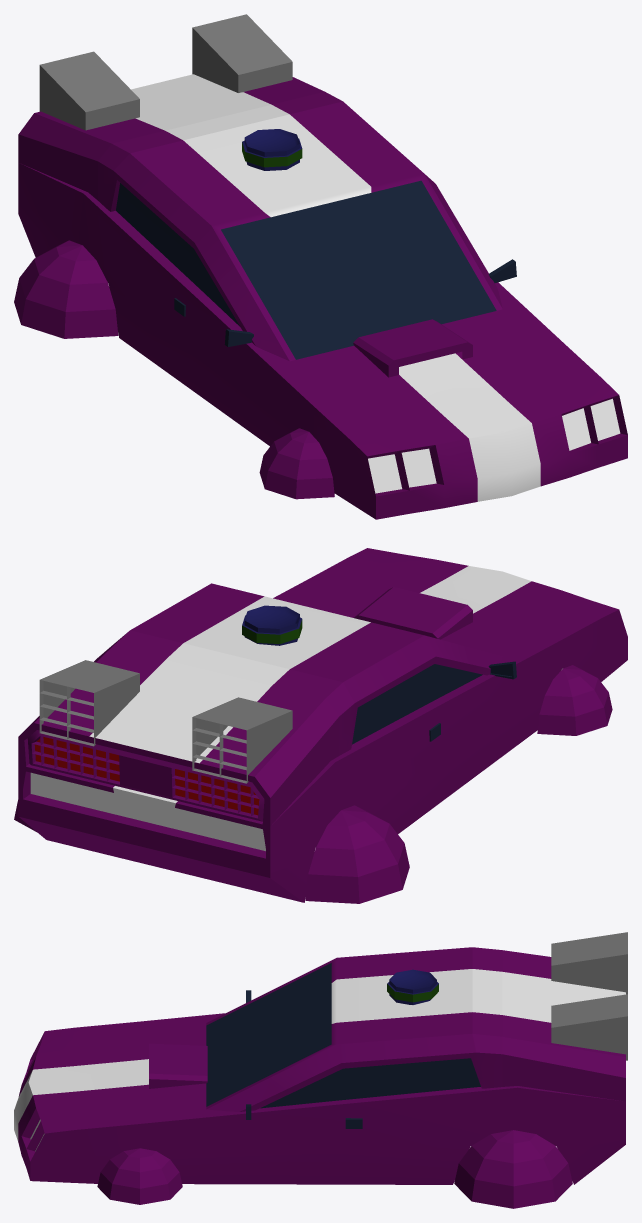
File: car_go_brrrr_3.fbx
The picture shows the model from 3 angles, top to bottom: view 1: azimuth 30°, elevation 25°; view 2: azimuth 150°, elevation 25°; view 3: azimuth 270°, elevation 25°; orthographic projection. The views are drawn at different scales.
Parts seen in each view (by area): view 1: polySurface215; view 2: polySurface215; view 3: polySurface215.
Part boxes in pixels (x1,y1,x2,y2): polySurface215: (14,14,627,519); polySurface215: (14,548,627,903); polySurface215: (14,932,627,1208).
Size of the model in its own units: 294 by 142 by 491.
